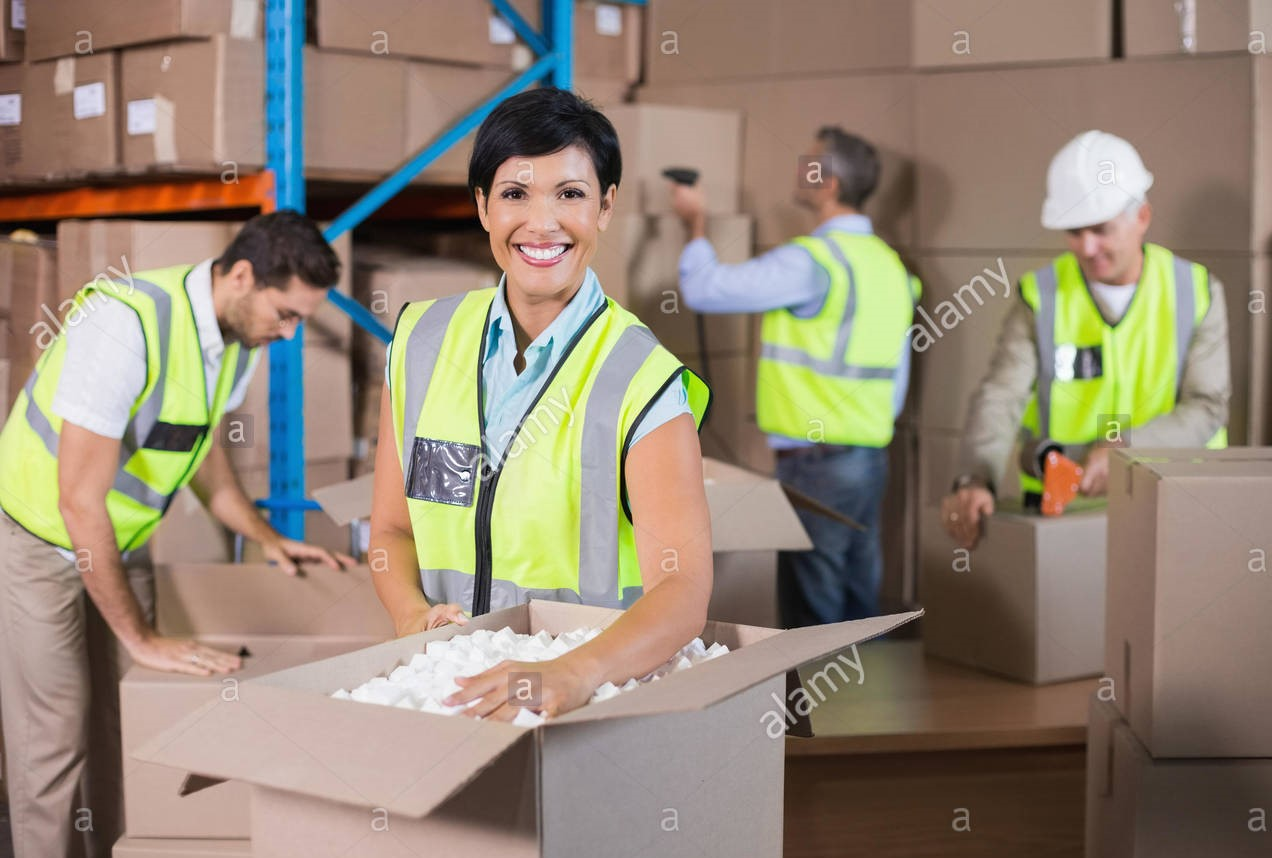epi: (942, 126, 1237, 548)
noepi: (4, 208, 356, 858), (370, 85, 715, 734), (667, 97, 914, 637)
